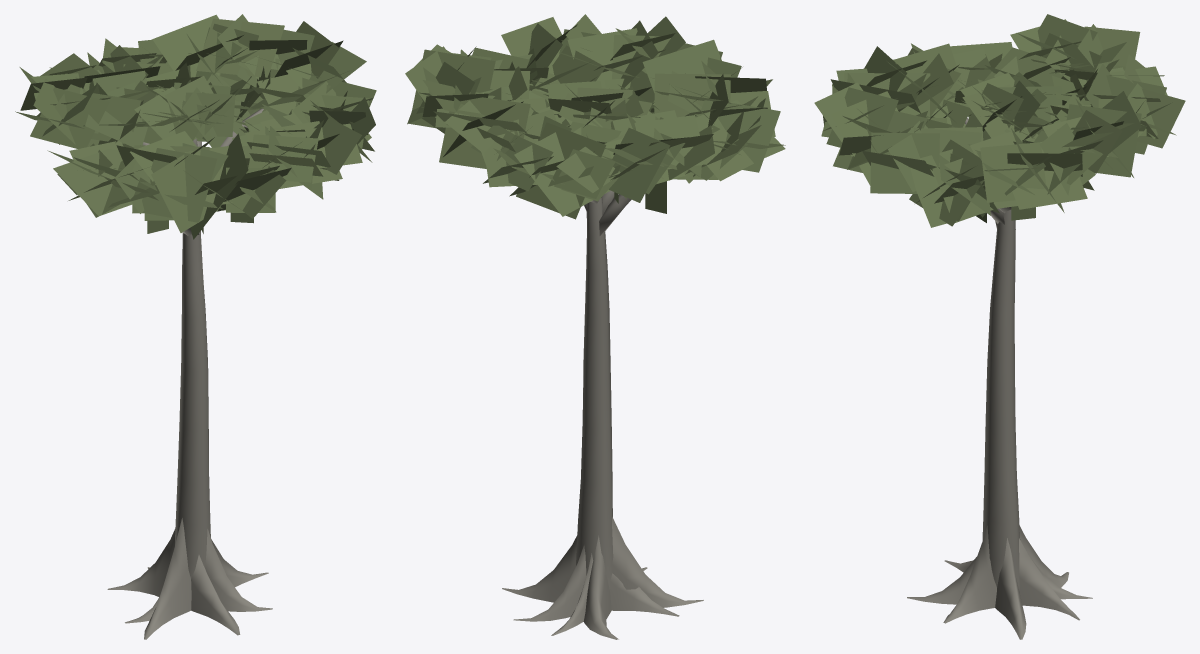
Rendered from big-tree-1_lod1.glb.
The picture shows the model from 3 angles, left to right: view 1: azimuth 30°, elevation 25°; view 2: azimuth 150°, elevation 25°; view 3: azimuth 270°, elevation 25°; orthographic projection.
Parts seen in each view (by area): view 1: big-tree-1_lod1; view 2: big-tree-1_lod1; view 3: big-tree-1_lod1.
Boxes of the visible parts, box(x1,y1,x2,y2) form: big-tree-1_lod1: box(15, 14, 376, 639); big-tree-1_lod1: box(405, 14, 785, 639); big-tree-1_lod1: box(814, 14, 1185, 639).
Bounding box in the file's own units: 38.75 × 60 × 38.8.
